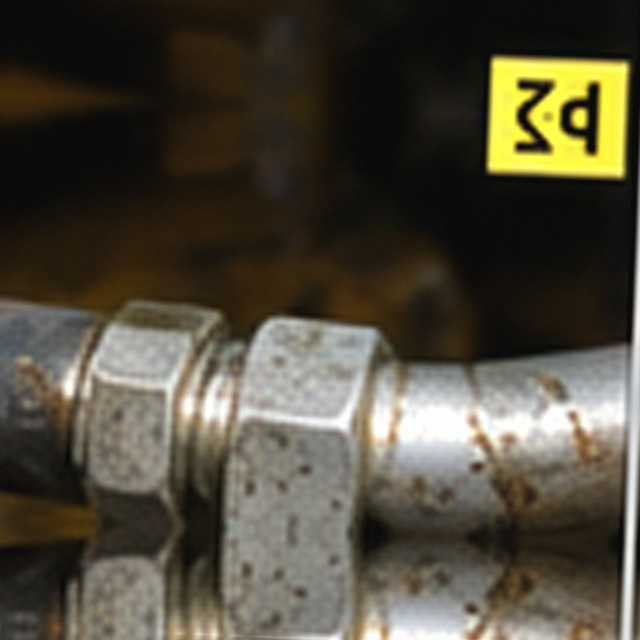hydraulic_oil_leak: (186, 185, 442, 457)
